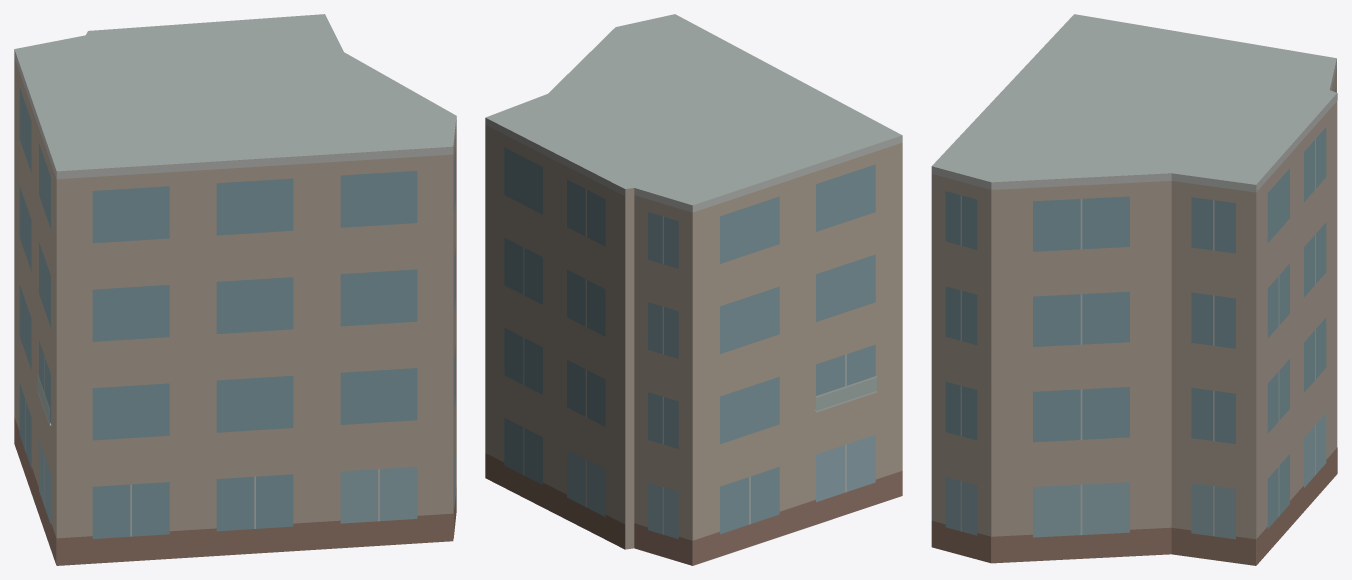
Rendered from survey-upis-32677150.glb.
3 views of the same model, side by side, from view 1: azimuth 30°, elevation 25°; view 2: azimuth 150°, elevation 25°; view 3: azimuth 270°, elevation 25° (orthographic). The views are drawn at different scales.
Parts seen in each view (by area): view 1: survey-upis-32677150.tmp; view 2: survey-upis-32677150.tmp; view 3: survey-upis-32677150.tmp.
Boxes of the visible parts, <box> form: survey-upis-32677150.tmp: <box>14,14,456,565</box>; survey-upis-32677150.tmp: <box>485,14,902,565</box>; survey-upis-32677150.tmp: <box>931,14,1337,565</box>.
Bounding box in the file's own units: 11.74 × 12.2 × 11.78.
